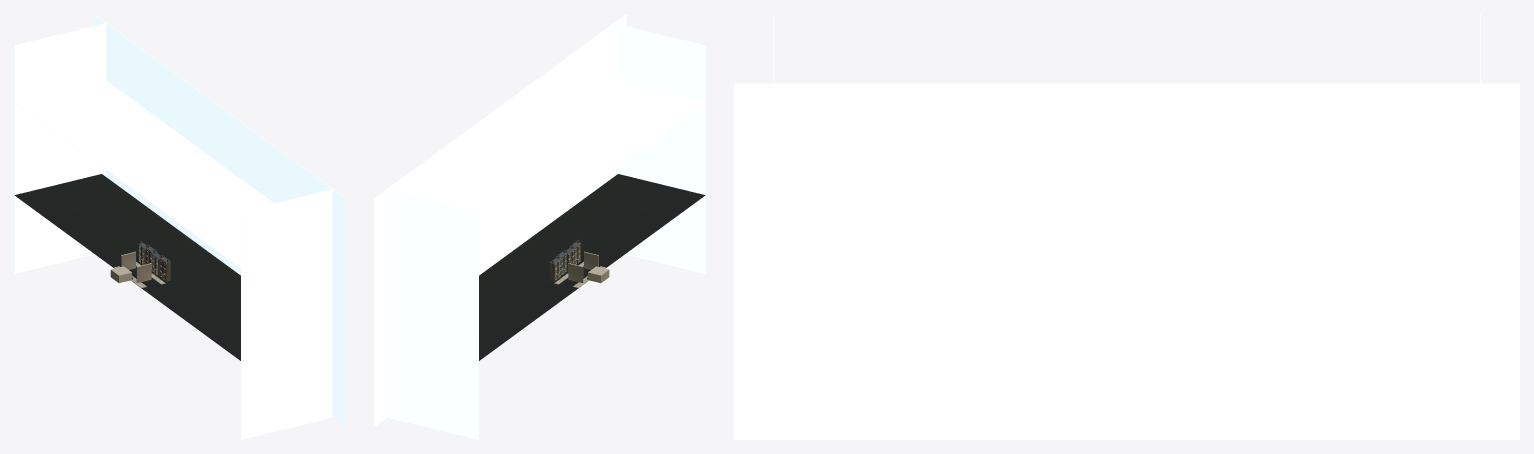
File: snow-office.glb
3 renders of one model, left to right at view 1: azimuth 30°, elevation 25°; view 2: azimuth 150°, elevation 25°; view 3: azimuth 270°, elevation 25°, orthographic. The views are drawn at different scales.
Parts seen in each view (by area): view 1: Daylight, Recess, Plaster, Ceiling, Exterior brick; view 2: Daylight, Recess, Plaster, Ceiling, Exterior brick; view 3: Daylight.
Part boxes in pixels (x1,y1,x2,y2): Daylight: (14, 14, 345, 439); Recess: (14, 174, 240, 360); Plaster: (110, 252, 151, 282); Ceiling: (110, 244, 166, 287); Exterior brick: (138, 241, 170, 281); Daylight: (374, 14, 705, 439); Recess: (479, 174, 705, 360); Plaster: (568, 252, 609, 282); Ceiling: (554, 243, 609, 287); Exterior brick: (550, 240, 580, 281); Daylight: (734, 14, 1519, 439).
Size of the model in its own units: 48.1 by 100 by 200.
17 materials, 10 textured.
